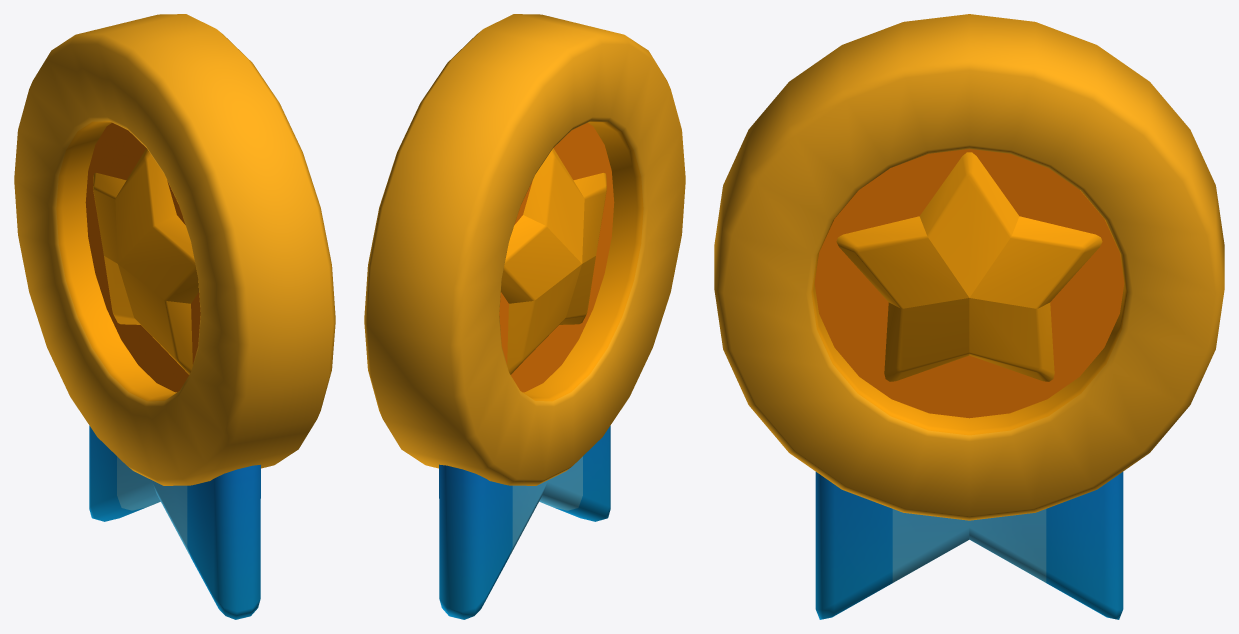
Rendered from Coin_V3_01.fbx.
The picture shows the model from 3 angles, left to right: view 1: azimuth 30°, elevation 25°; view 2: azimuth 150°, elevation 25°; view 3: azimuth 270°, elevation 25°; orthographic projection. The views are drawn at different scales.
Visible parts, largest first — view 1: Coin_V3_01; view 2: Coin_V3_01; view 3: Coin_V3_01.
Part boxes in pixels (left/top/right/bottom): Coin_V3_01: left=14, top=14, right=335, bottom=619; Coin_V3_01: left=364, top=14, right=685, bottom=619; Coin_V3_01: left=714, top=14, right=1224, bottom=619.
Bounding box in the file's own units: 12.19 × 53.92 × 43.
